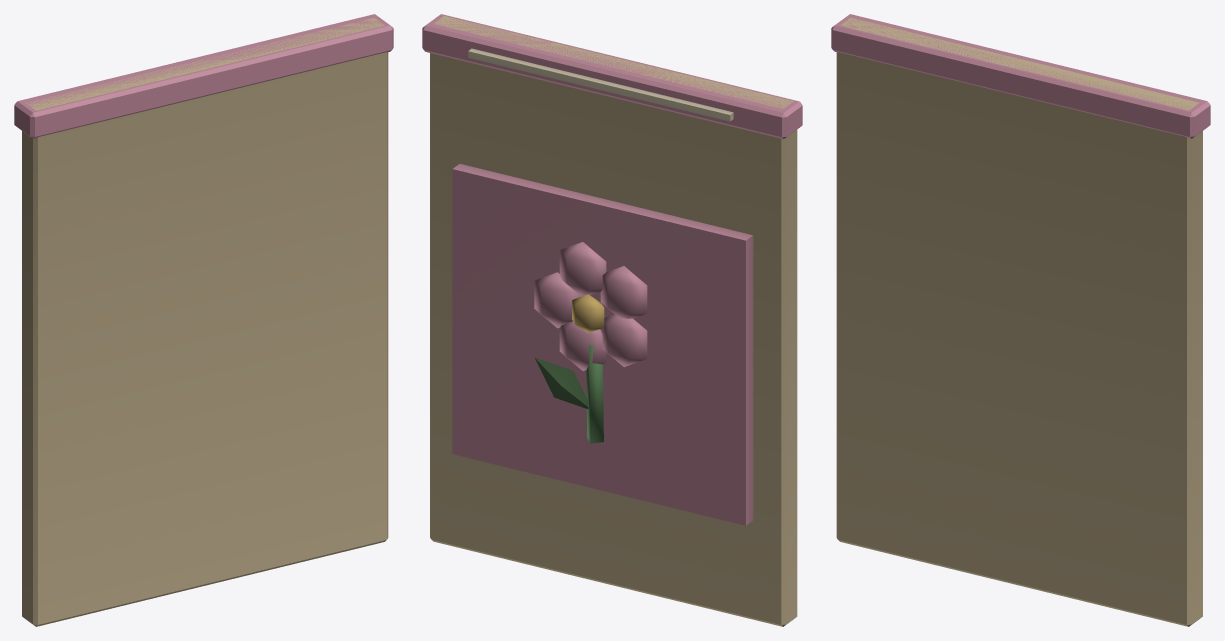
File: seed_flower_pink_low.glb
3 renders of one model, left to right at view 1: azimuth 30°, elevation 25°; view 2: azimuth 150°, elevation 25°; view 3: azimuth 330°, elevation 25°, orthographic.
Size of the model in its own units: 0.174 by 0.236 by 0.0318.
